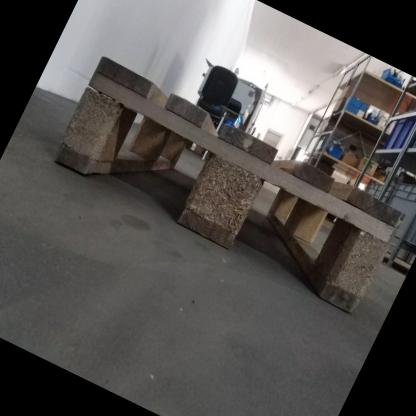BoxFace: (45, 52, 412, 322)
